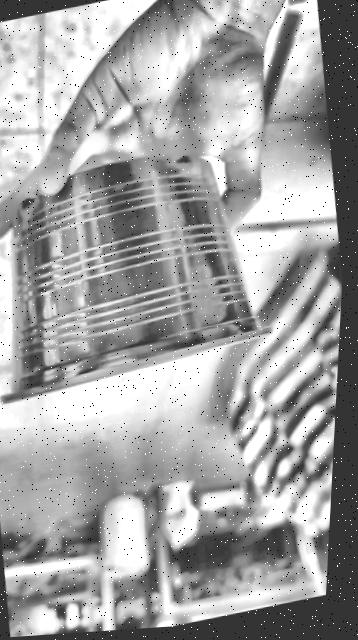pot: (2, 155, 269, 402)
